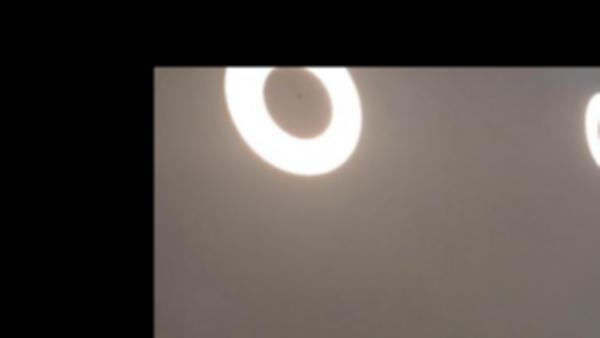light_on: (213, 67, 378, 191), (572, 77, 600, 179)
